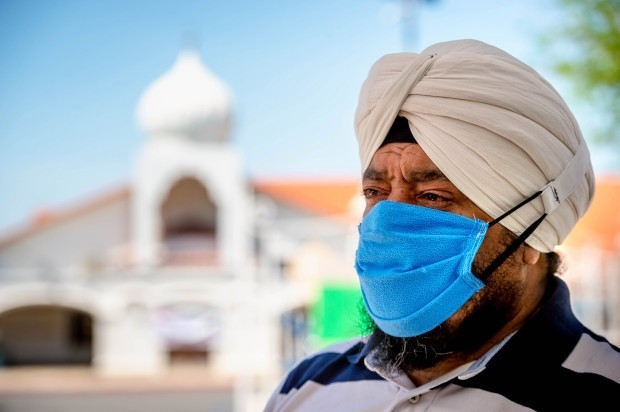face_with_mask: (358, 45, 588, 338)
